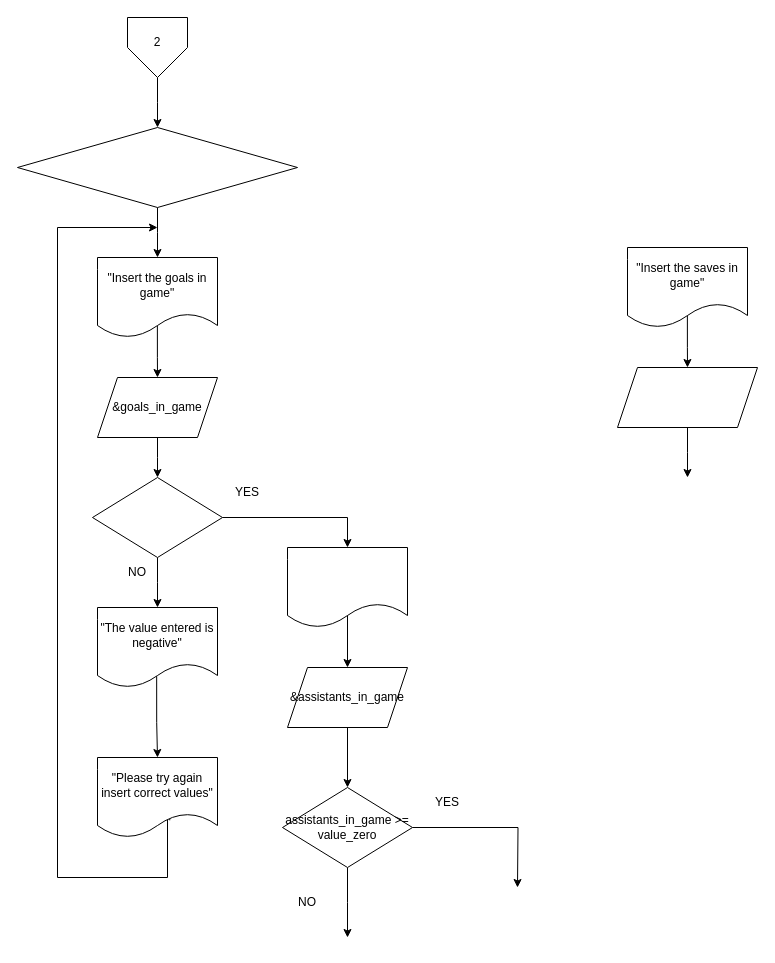
This 775x963 diagram has some shape labels left out. Here are the shapes that lost their labels. From the top down, the centre of each, then its label:
the point at 157,167: plays_count = 0; plays_count < plays_of_week; ++plays_count
the point at 687,397: &saves_in_game
the point at 157,517: goals_in_game >= value_zero
the point at 347,587: "Insert the assistants in game"
